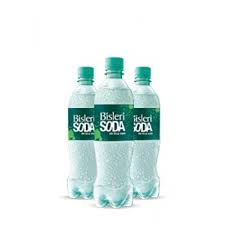Bisleri: (96, 108, 129, 124), (70, 112, 96, 124), (133, 113, 155, 121)
